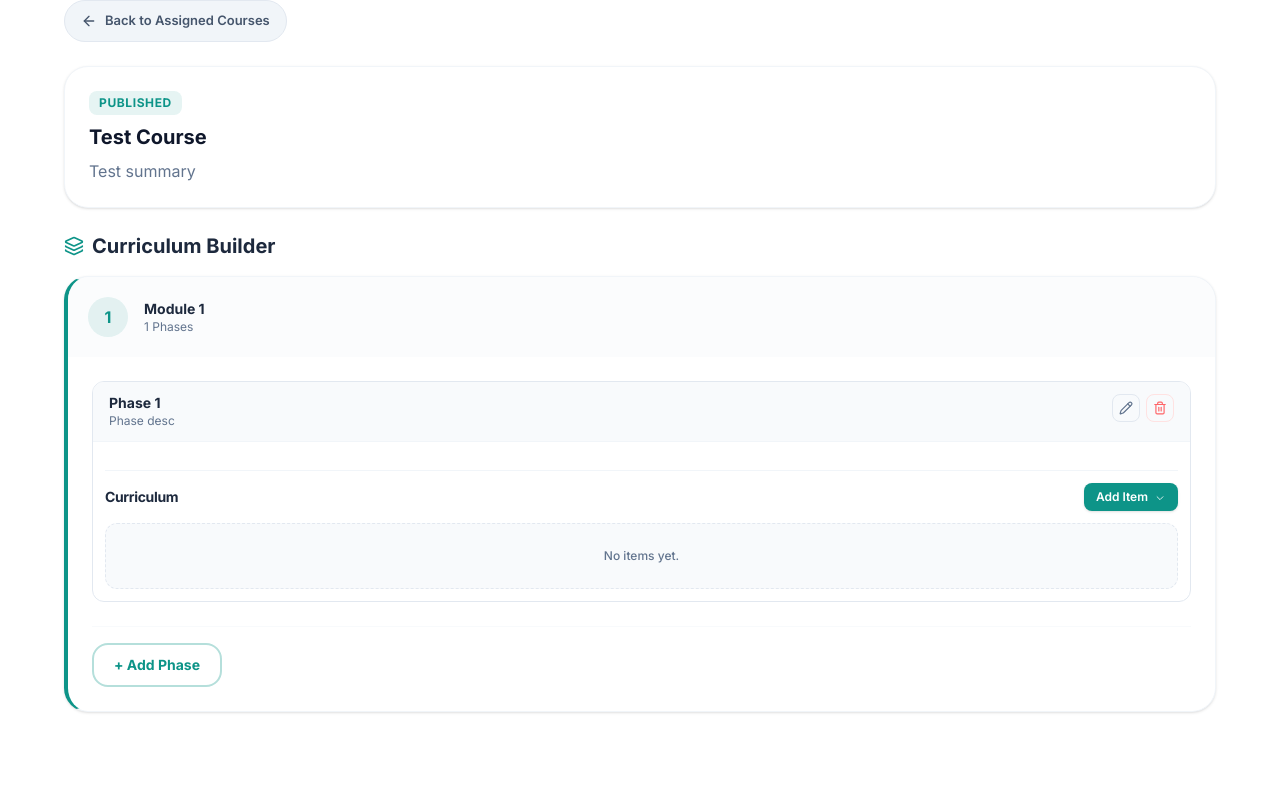
Test case: CourseDetail - Instructor interaction tests (API-based) › closes the Add Phase modal when Cancel is clicked
Expected: the heading "Module 1" is shown, [144, 298, 205, 318]
Click the button "+ Add Phase" at x=157, y=665, box [92, 643, 222, 687]
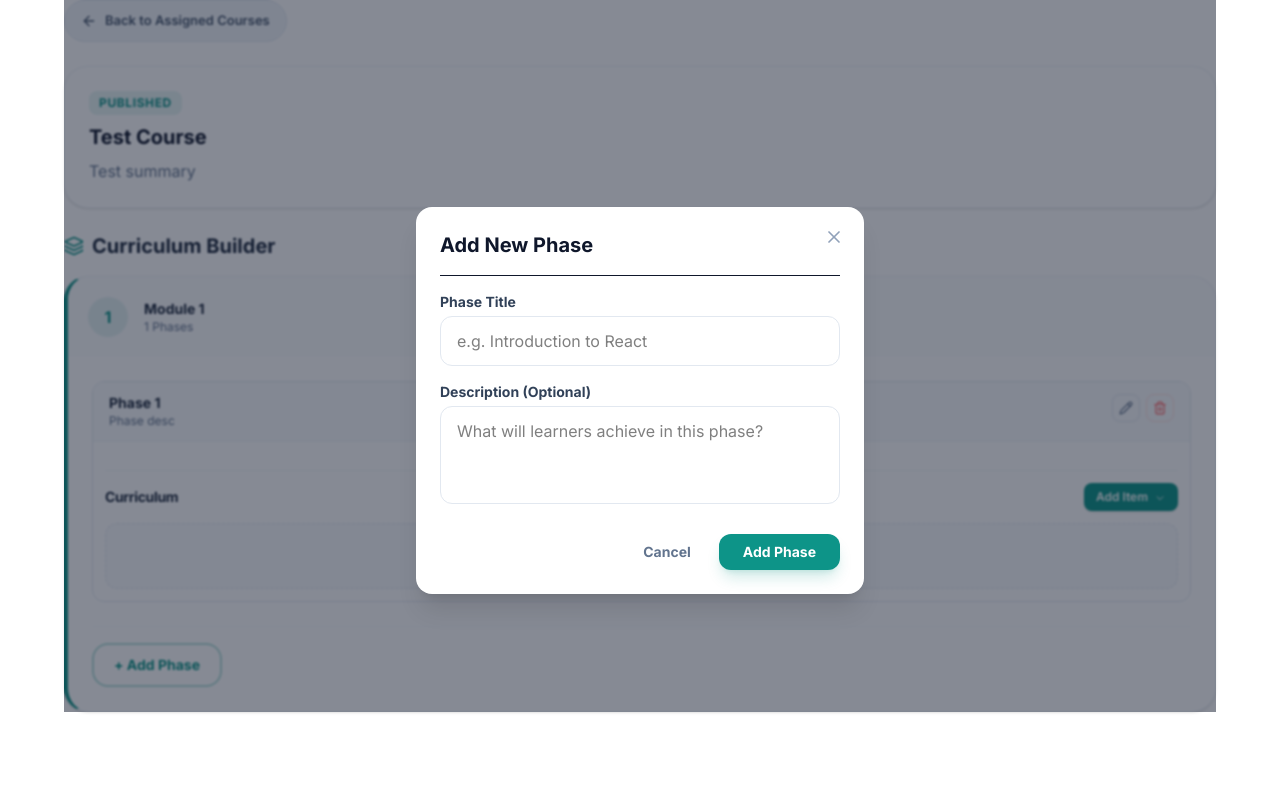
Expected: the heading "Add New Phase" is shown, [440, 230, 840, 276]
Click the button "Cancel" at x=667, y=552, box [627, 534, 707, 570]
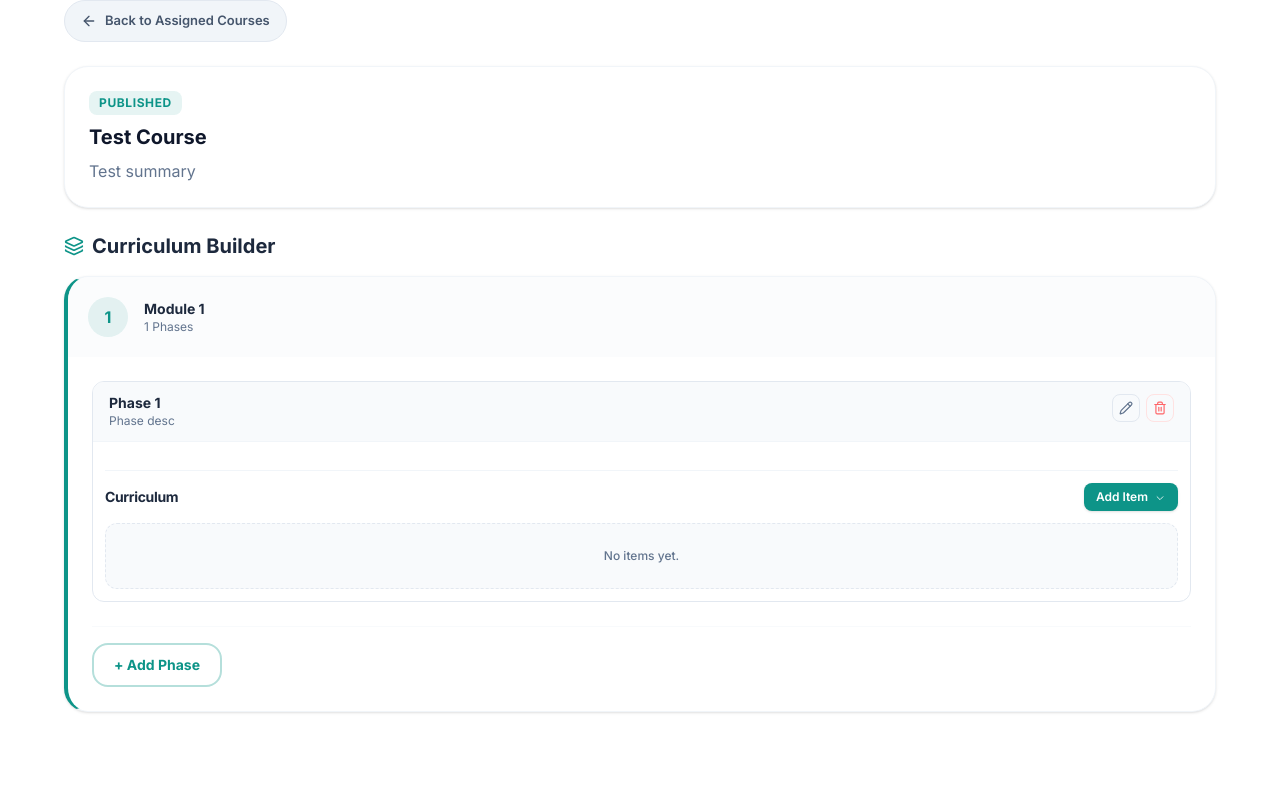
Expected: the heading "Add New Phase" is gone
